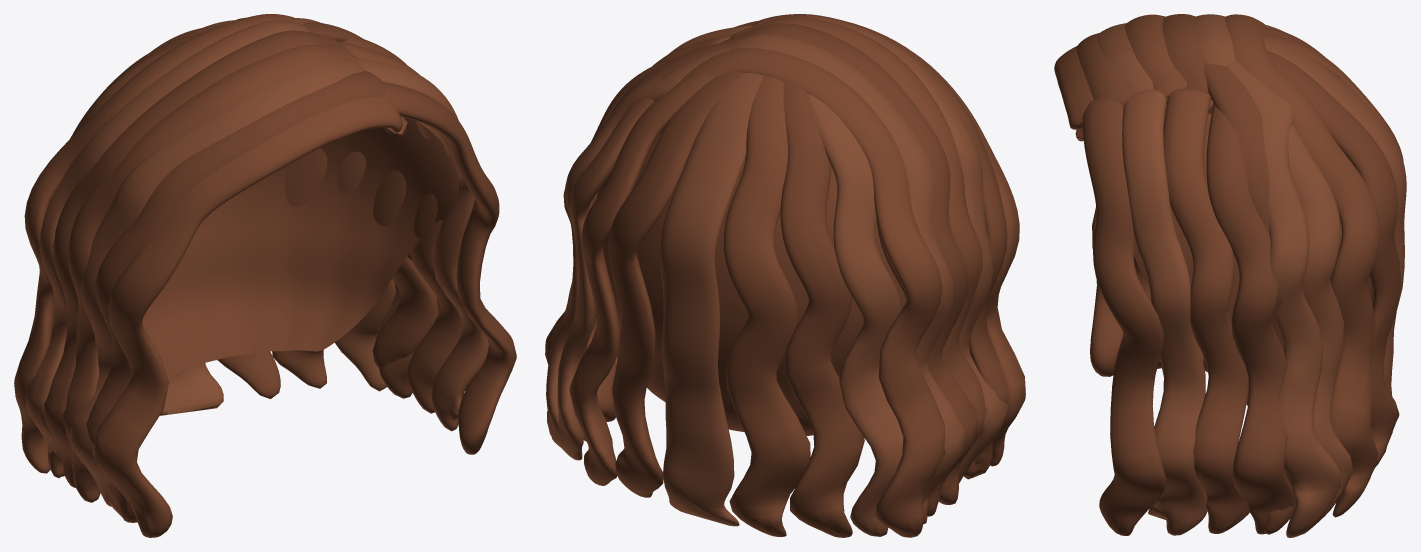
The model's file is Feminine-Feminine-curls-hair261-1726d578.glb.
3 views of the same model, side by side, from view 1: azimuth 30°, elevation 25°; view 2: azimuth 150°, elevation 25°; view 3: azimuth 270°, elevation 25° (orthographic).
Parts seen in each view (by area): view 1: 226 hair / Hair / sculpted 0.001, 226 hair / Hair / sculpted 1.002, 226 hair / Hair / sculpted 1.001, 226 hair / Hair / sculpted 2.001; view 2: 226 hair / Hair / sculpted 0.001, 226 hair / Hair / sculpted 2.001, 226 hair / Hair / sculpted 1.002, 226 hair / Hair / sculpted 1.001; view 3: 226 hair / Hair / sculpted 1.002, 226 hair / Hair / sculpted 2.001, 226 hair / Hair / sculpted 0.001, 226 hair / Hair / sculpted 1.001.
Boxes of the visible parts, bbox=[...] form: 226 hair / Hair / sculpted 0.001: bbox=[14, 14, 462, 537]; 226 hair / Hair / sculpted 1.002: bbox=[44, 17, 516, 522]; 226 hair / Hair / sculpted 1.001: bbox=[142, 118, 458, 378]; 226 hair / Hair / sculpted 2.001: bbox=[25, 18, 488, 506]; 226 hair / Hair / sculpted 0.001: bbox=[569, 16, 1025, 537]; 226 hair / Hair / sculpted 2.001: bbox=[546, 15, 1008, 536]; 226 hair / Hair / sculpted 1.002: bbox=[545, 14, 1008, 537]; 226 hair / Hair / sculpted 1.001: bbox=[596, 130, 905, 435]; 226 hair / Hair / sculpted 1.002: bbox=[1076, 14, 1400, 535]; 226 hair / Hair / sculpted 2.001: bbox=[1097, 14, 1406, 537]; 226 hair / Hair / sculpted 0.001: bbox=[1054, 14, 1403, 533]; 226 hair / Hair / sculpted 1.001: bbox=[1134, 112, 1373, 406].
Size of the model in its own units: 0.9453 by 0.9384 by 0.696.
